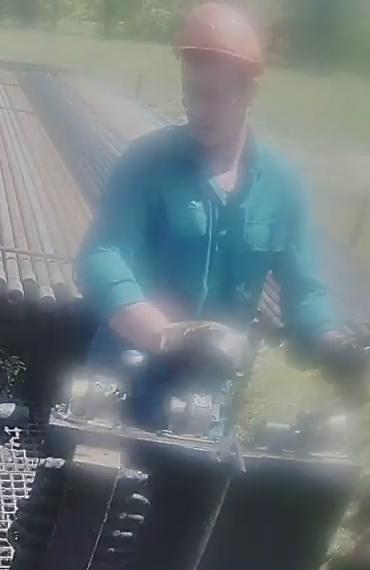gloves: (143, 313, 249, 383), (312, 320, 370, 412)
helmet: (172, 0, 269, 75)
vest: (107, 124, 310, 394)
